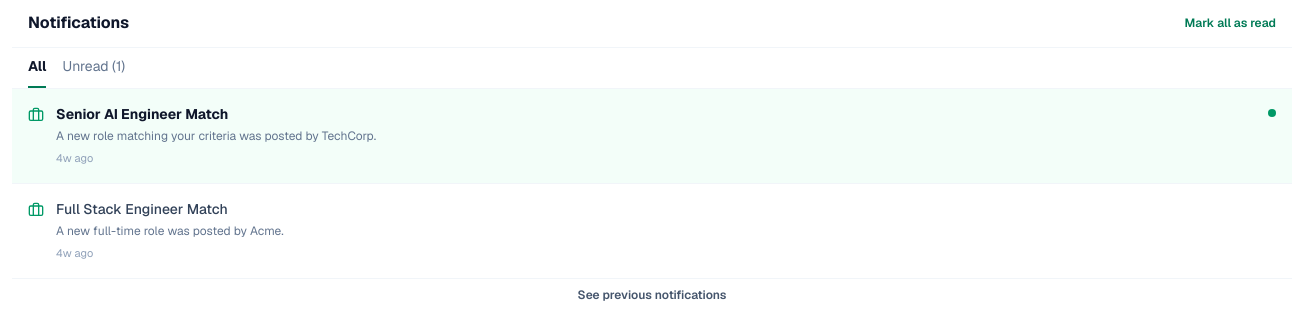
Test: NotificationDropdownPanel › arms auto-load on All tab when clicking "See previous notifications", hiding button and activating sentinel
Note: Click button to arm auto-load
What coordinates should you click on to do the following:
click the button with test id "see-previous-notifications-button"
I would click on:
 (652, 294)
Its box is x1=12 y1=278 x2=1292 y2=310.
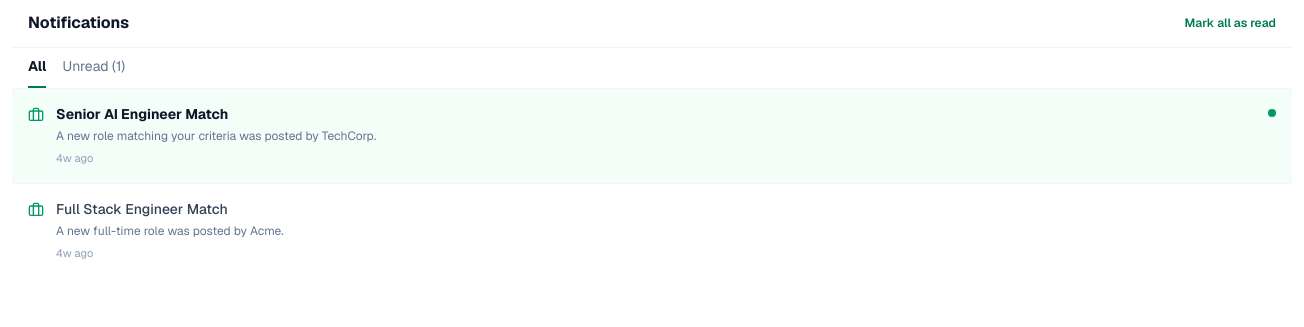
Expected: the button with test id "see-previous-notifications-button" is gone
